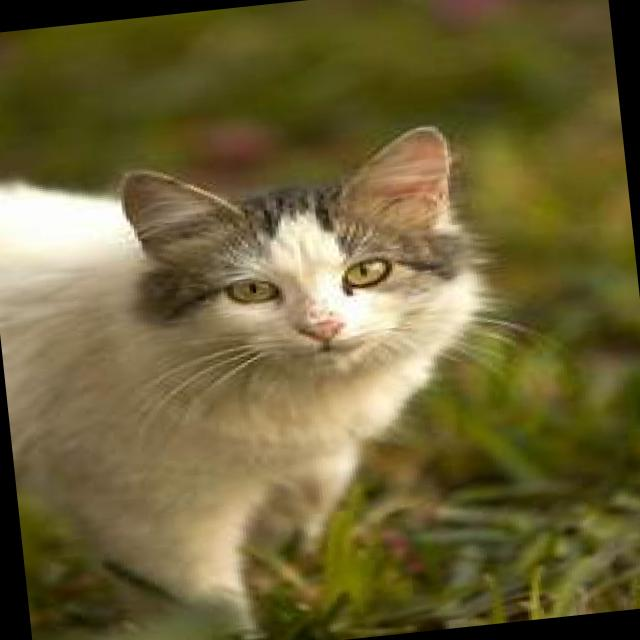cat: (0, 111, 563, 640)
